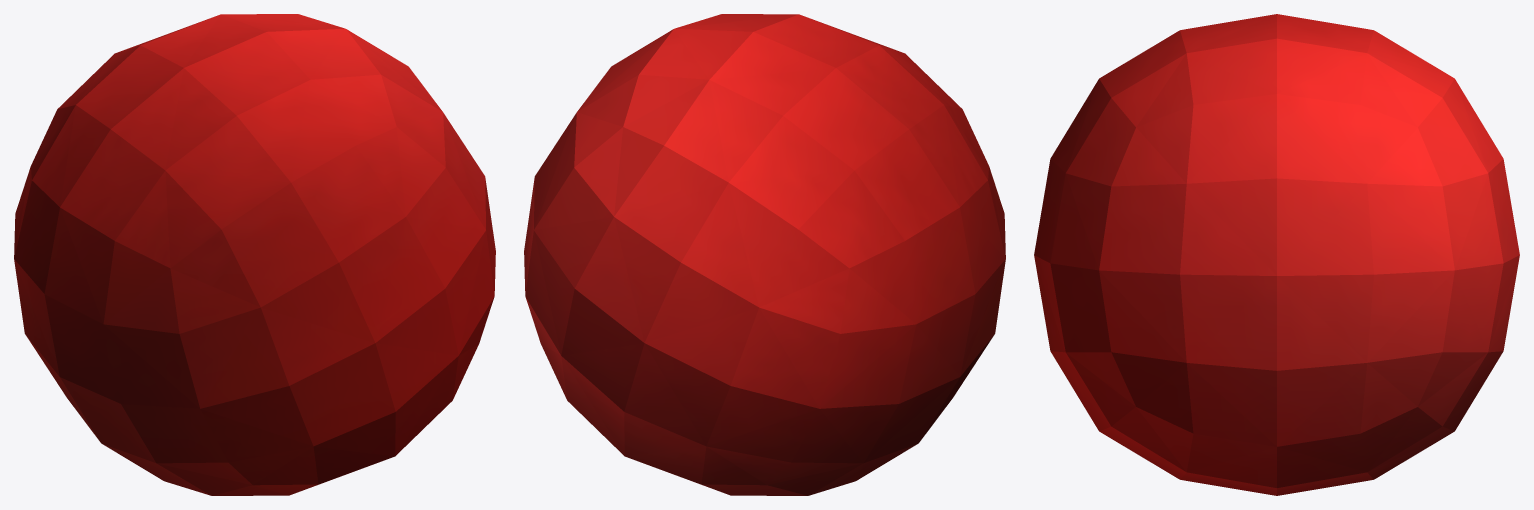
File: CLOWN NOSE 22.fbx
3 renders of one model, left to right at view 1: azimuth 30°, elevation 25°; view 2: azimuth 150°, elevation 25°; view 3: azimuth 270°, elevation 25°, orthographic.
Visible parts, largest first — view 1: ClownNose; view 2: ClownNose; view 3: ClownNose.
Part boxes in pixels (bbox=[...]): ClownNose: bbox=[14, 14, 495, 495]; ClownNose: bbox=[524, 14, 1005, 495]; ClownNose: bbox=[1034, 14, 1519, 495].
Bounding box in the file's own units: 10.85 × 10.85 × 10.75.
